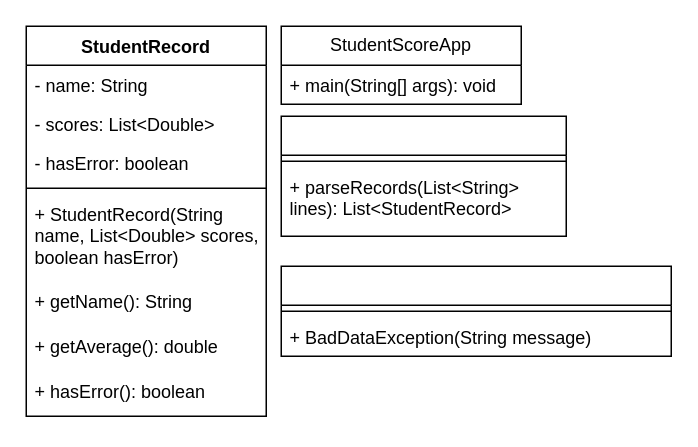
The diagram is 698 pixels wide and 447 high, and some of its shapes have lost their labels. Each missing label, with the box of its shape:
BadDataException extends IOException: (280, 265, 671, 356)
StudentScoreReader: (280, 115, 566, 236)
